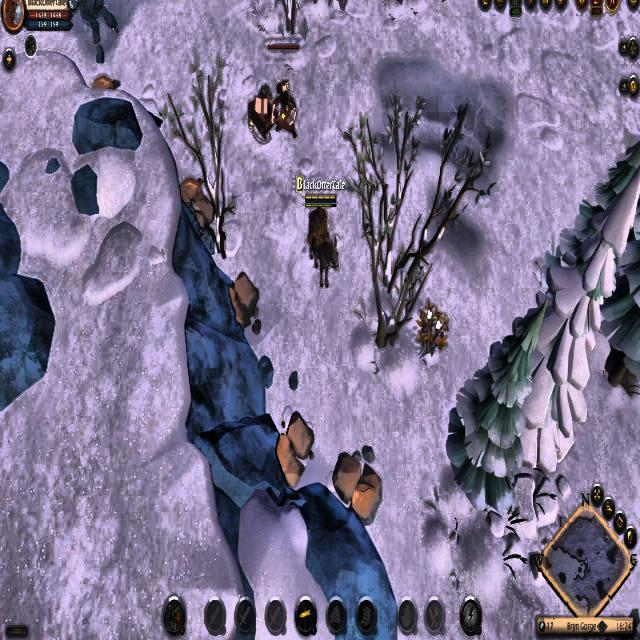limestone: (332, 446, 385, 526), (273, 405, 312, 500), (179, 171, 215, 235), (228, 267, 262, 334), (87, 74, 120, 96)
